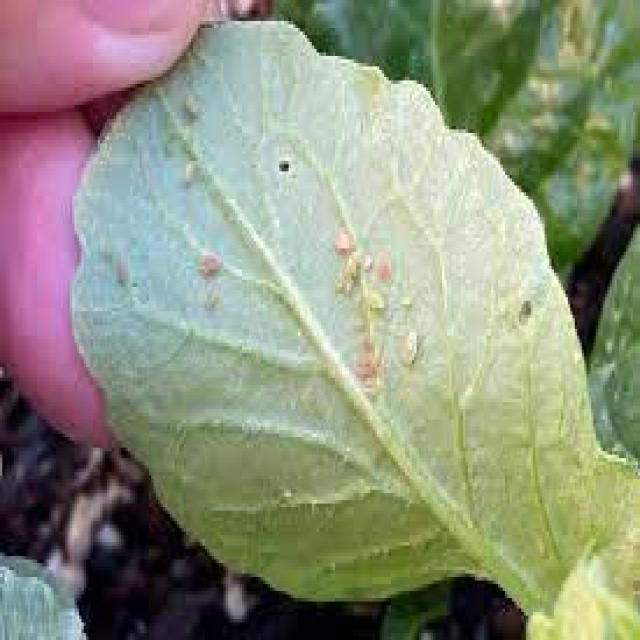aphid: (326, 213, 356, 259), (396, 318, 421, 367), (175, 77, 202, 122), (193, 241, 224, 280), (370, 242, 396, 284), (107, 241, 130, 287), (175, 147, 200, 189), (349, 342, 375, 370), (349, 357, 379, 381), (394, 280, 414, 315), (363, 290, 386, 315), (326, 270, 344, 298), (337, 270, 354, 298)
